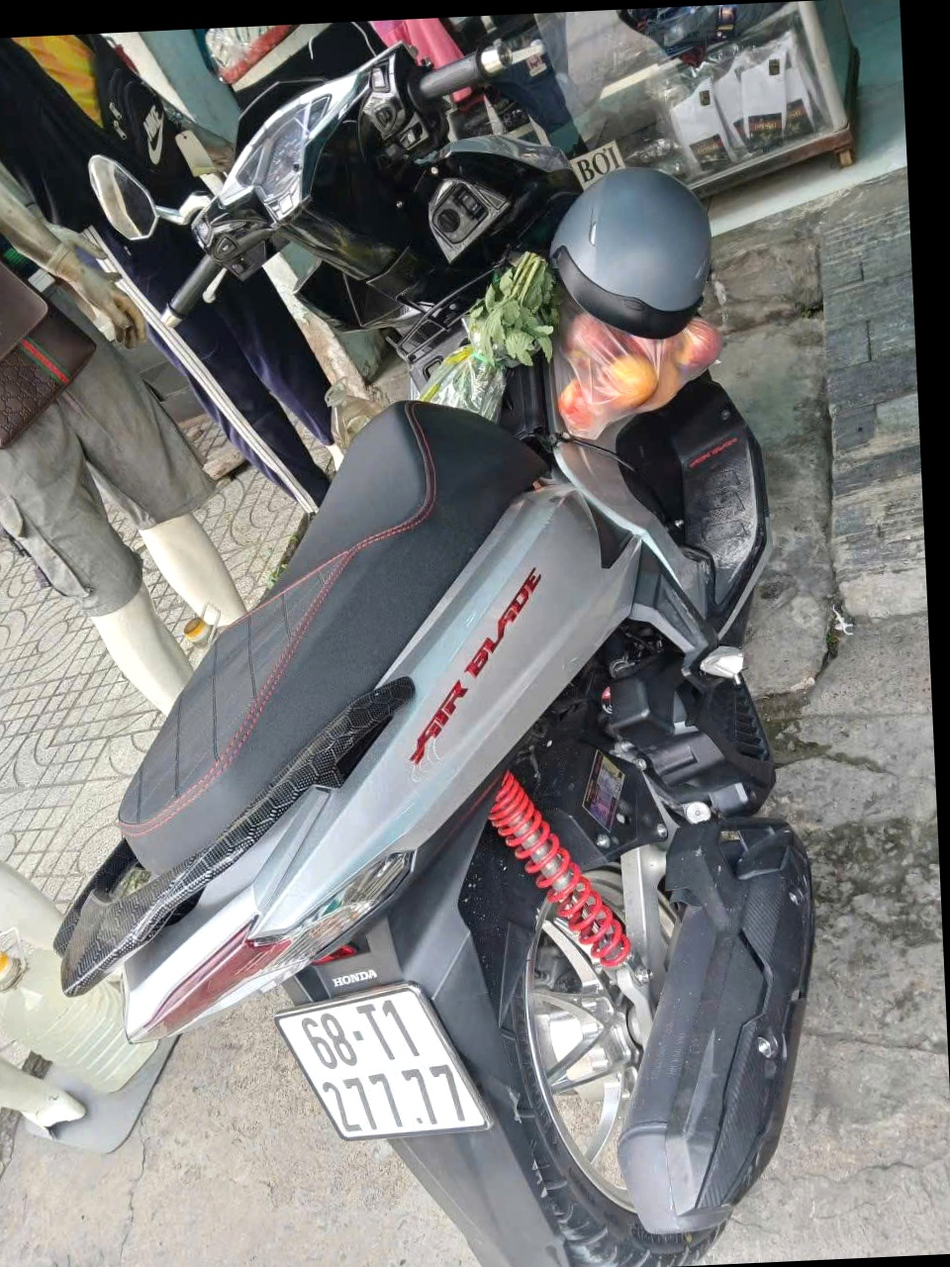Bien-so: (260, 955, 501, 1136)
